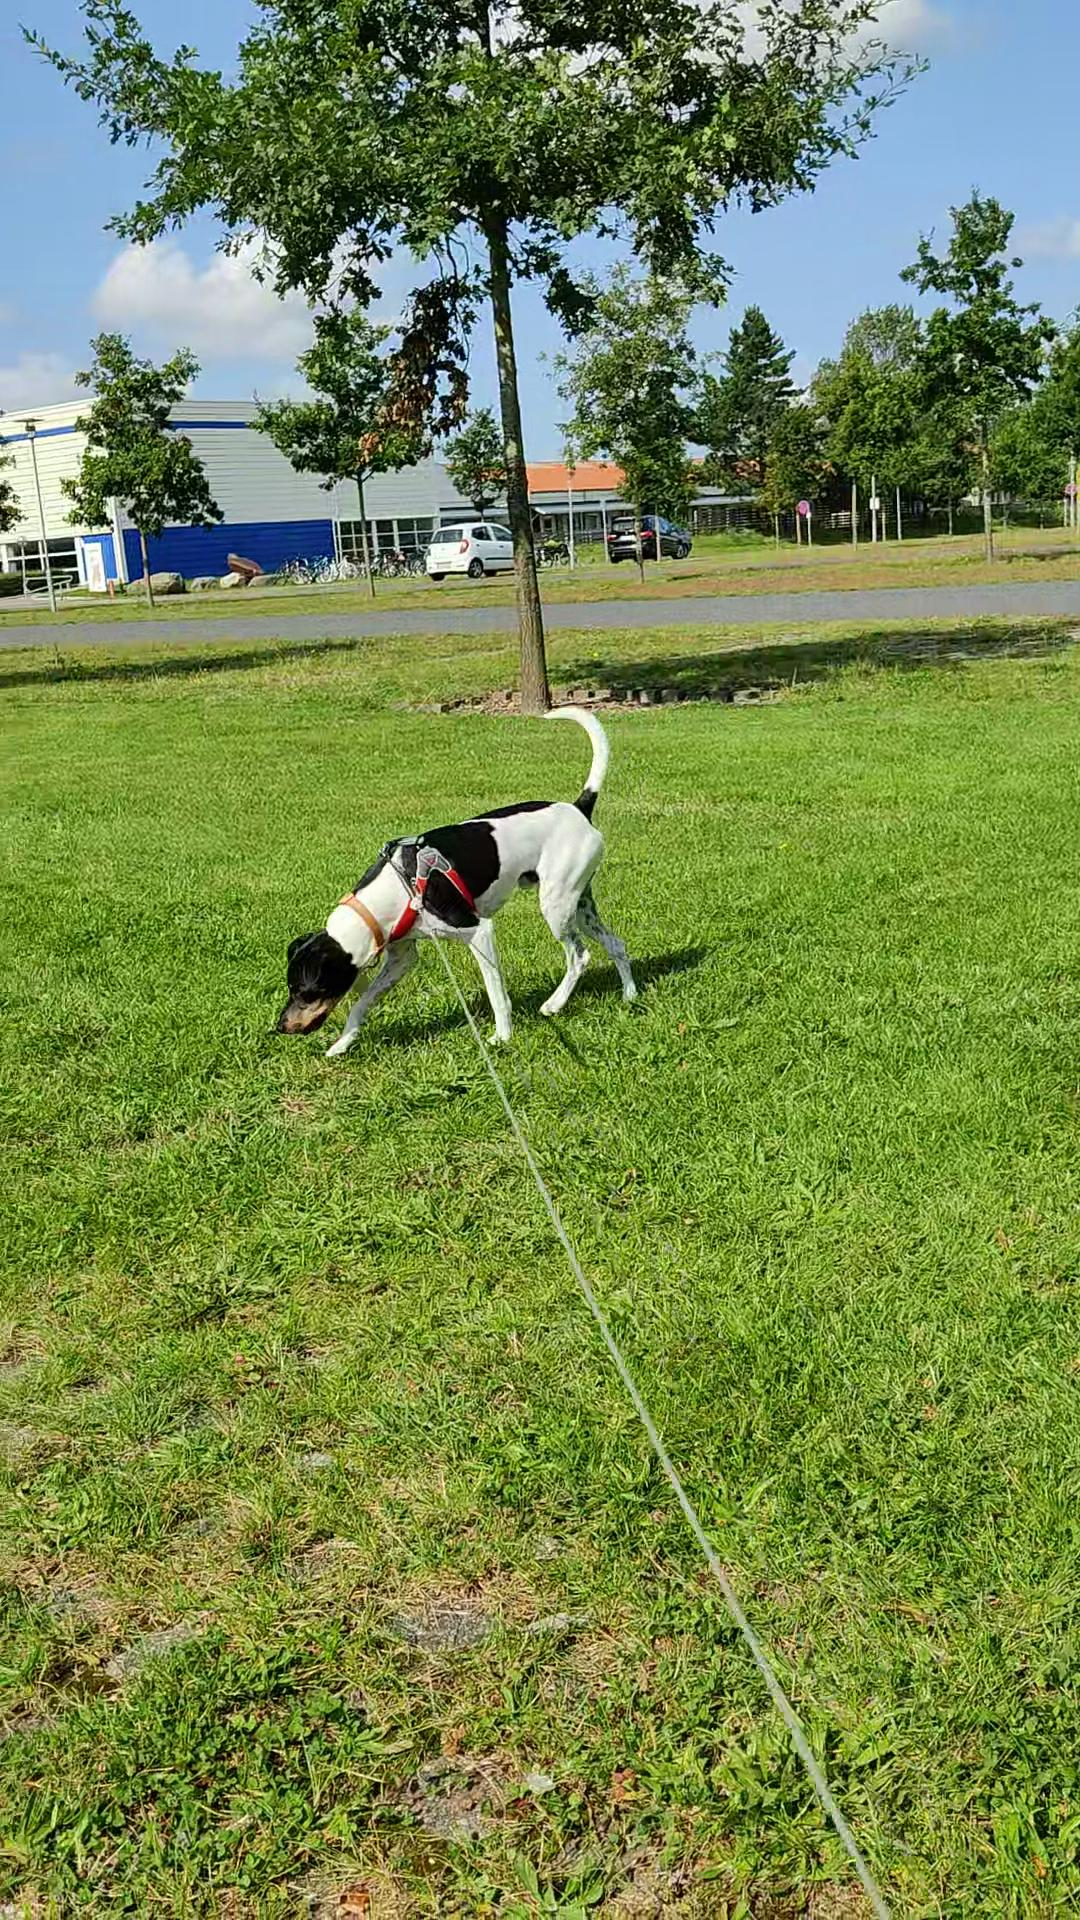Dog: (253, 695, 651, 1071)
